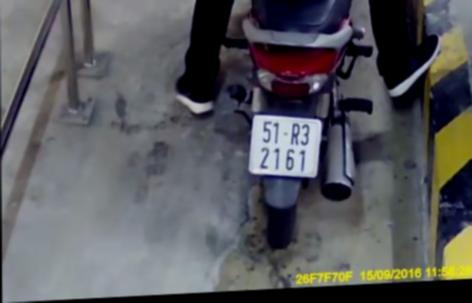License_Plate: (244, 107, 325, 185)
